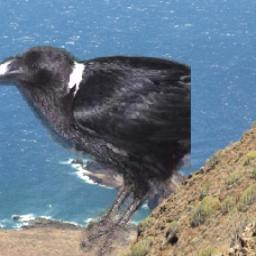Crow: (0, 45, 191, 256)
